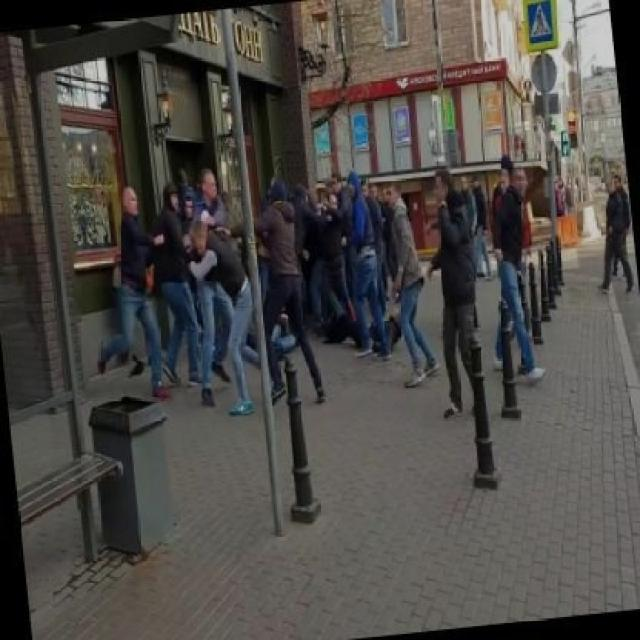fight: (182, 168, 330, 410), (137, 174, 256, 421)
non-fight: (422, 167, 490, 421), (490, 162, 552, 384)
